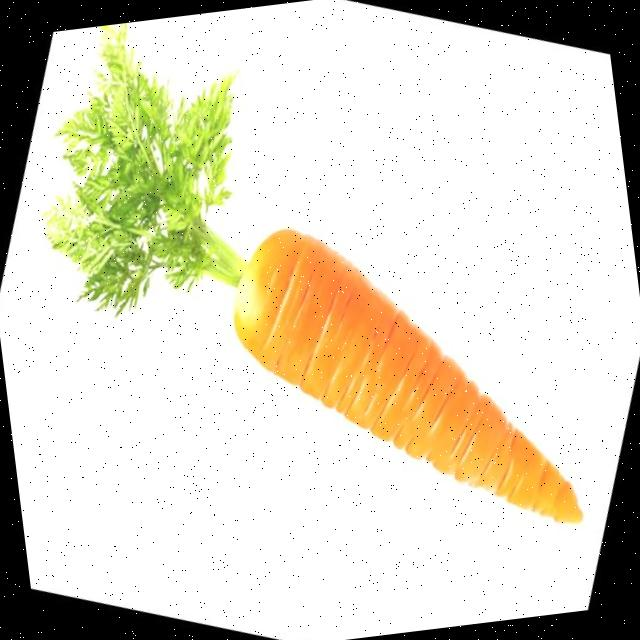carrot: (47, 30, 581, 521)
